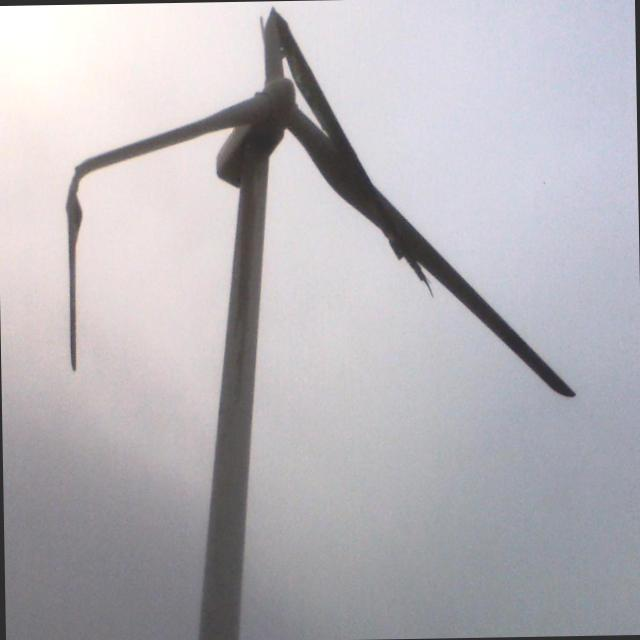crack: (257, 3, 435, 294), (58, 150, 109, 372)
